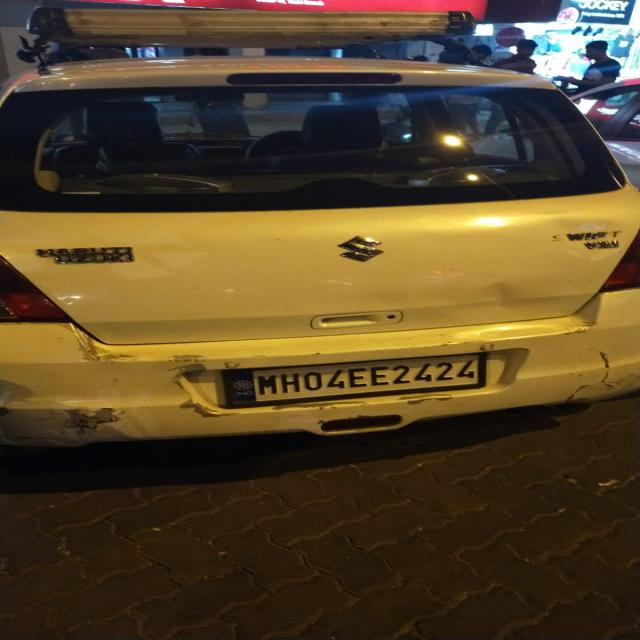Number-Plate: (229, 354, 483, 405)
